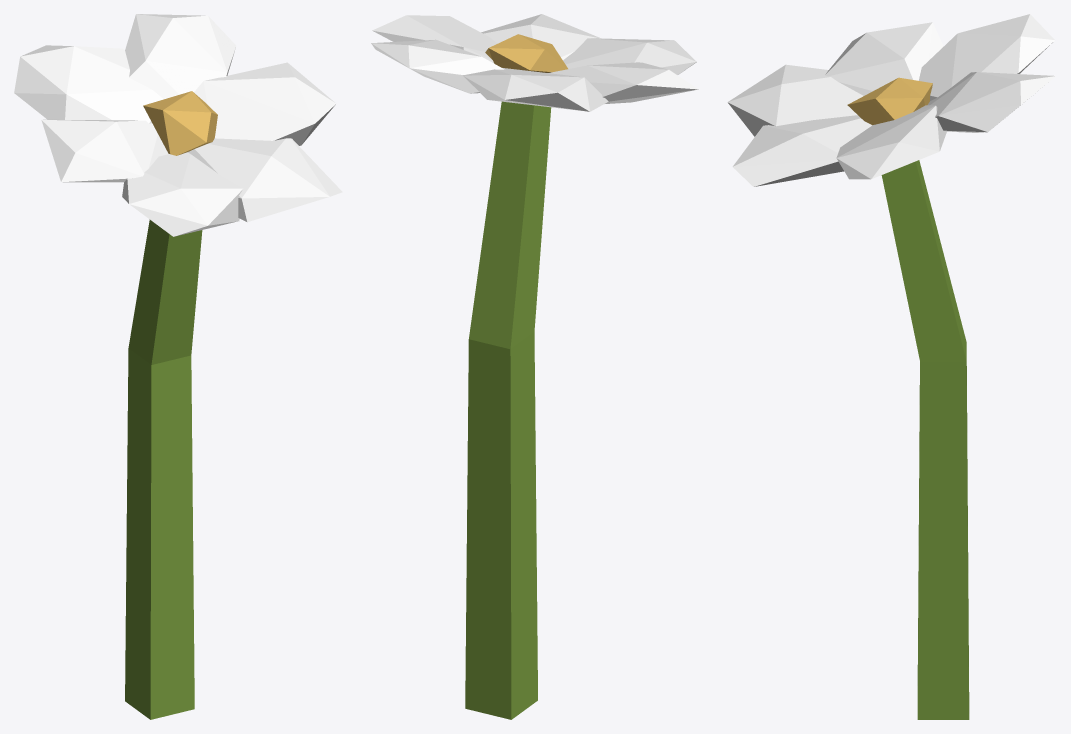
The model's file is Flower_05.glb.
3 renders of one model, left to right at view 1: azimuth 30°, elevation 25°; view 2: azimuth 150°, elevation 25°; view 3: azimuth 270°, elevation 25°, orthographic. The views are drawn at different scales.
Parts seen in each view (by area): view 1: Flower_05_LOD0; view 2: Flower_05_LOD0; view 3: Flower_05_LOD0.
Boxes of the visible parts, left/top/right/bottom form: Flower_05_LOD0: left=14, top=14, right=342, bottom=719; Flower_05_LOD0: left=371, top=14, right=698, bottom=719; Flower_05_LOD0: left=727, top=14, right=1055, bottom=719.
Size of what is drawn, in the model's own units: 0.0906 by 0.1965 by 0.0897.
Materials: 1 (1 with a texture image).
